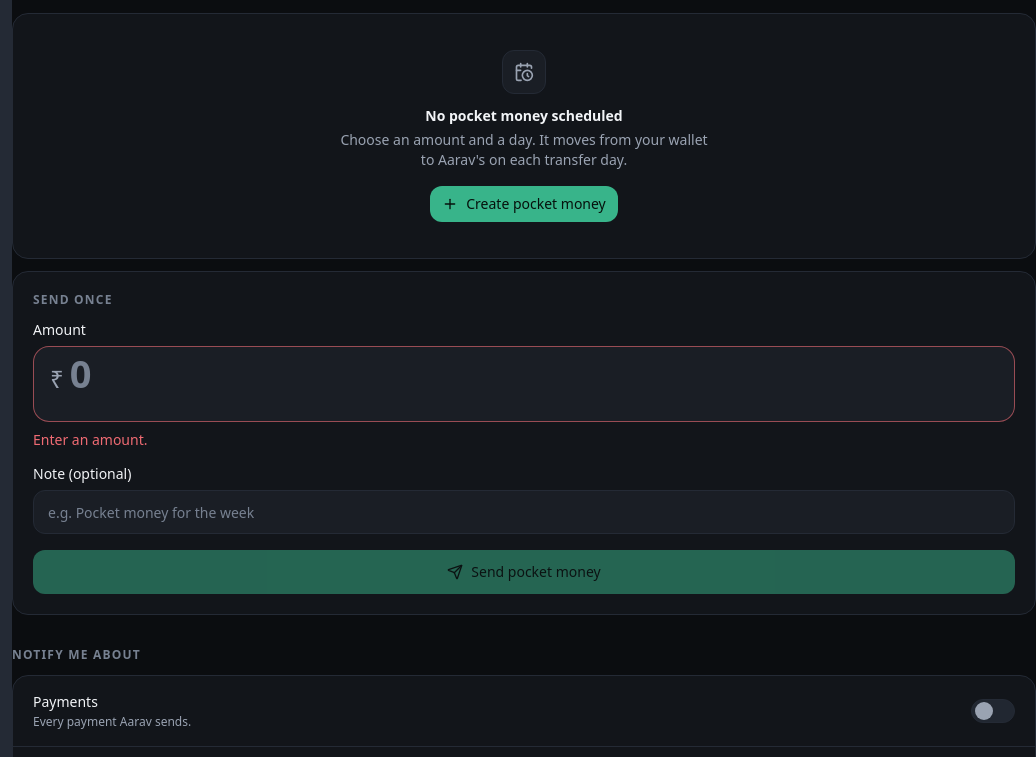
Test: parent view › sending allowance credits the teen balance through the ledger
(page scrolled)
Type "500" into the field labelled "Amount" at (534, 373), box [70, 347, 998, 399]
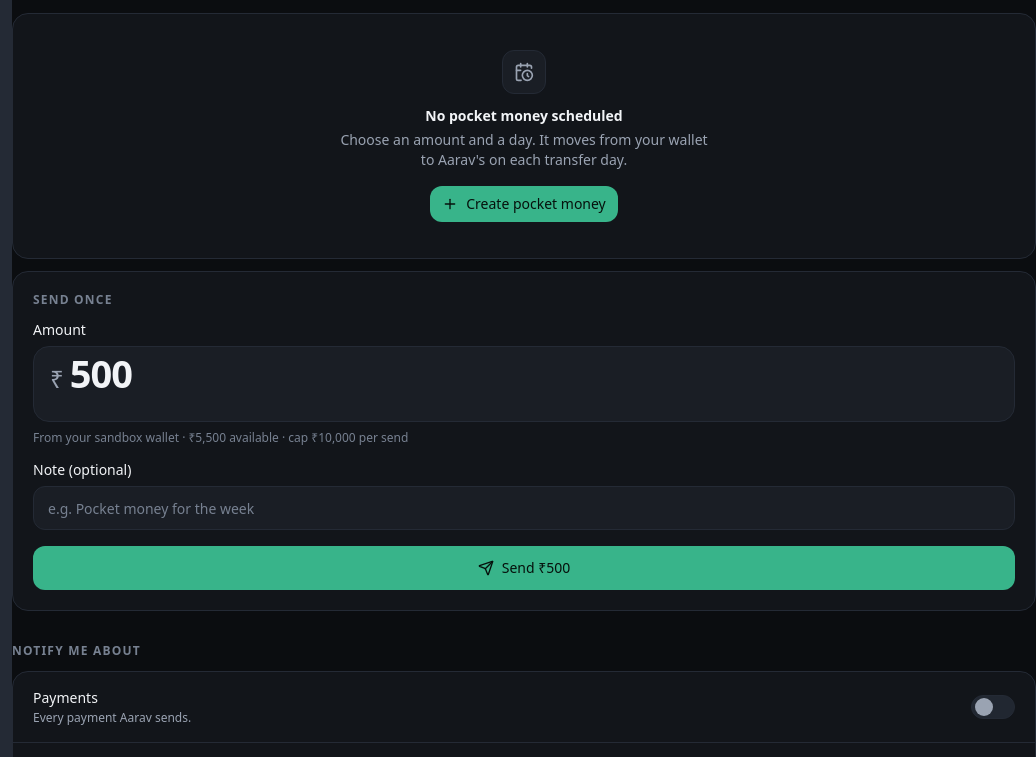
Now the button "Send ₹500" is enabled
Click the button "Send ₹500" at (524, 568), box [33, 546, 1015, 590]
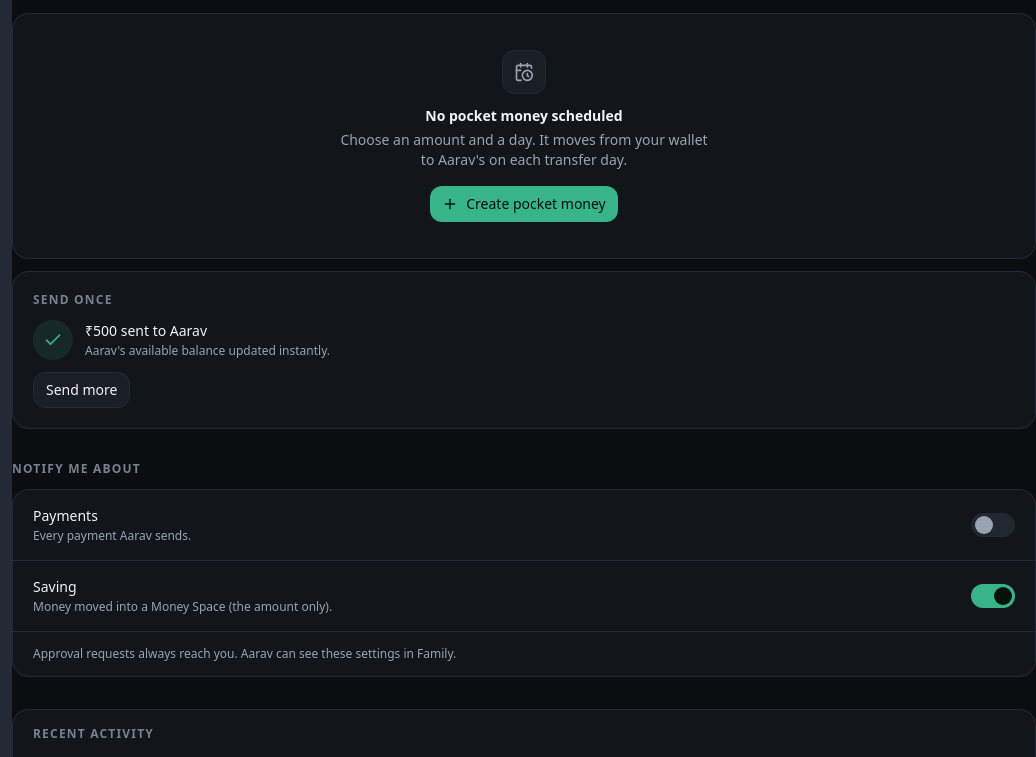
Now the text "₹500 sent to Aarav" is shown, box [85, 321, 207, 340]
Now the text "Aarav's available balance updated instantly." is shown, box [85, 343, 330, 359]
# "Send more" re-opens the form without losing state.
Click the button "Send more" at (82, 390), box [33, 372, 130, 408]
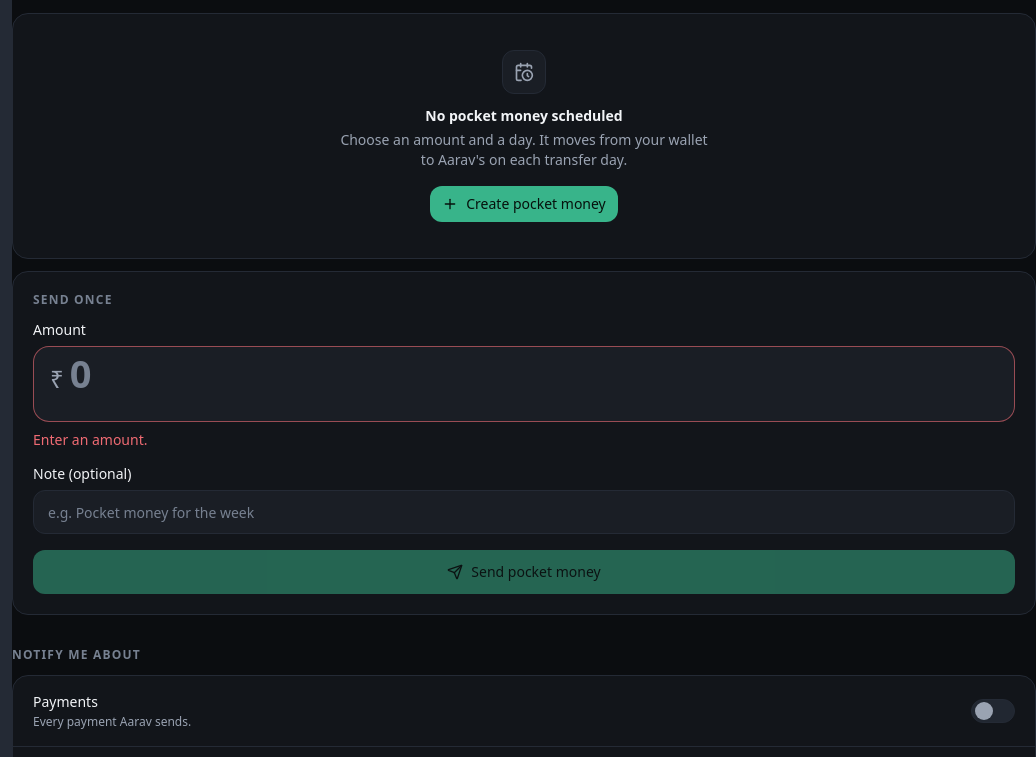
Now the button "Send pocket money" is shown, box [33, 550, 1015, 594]
